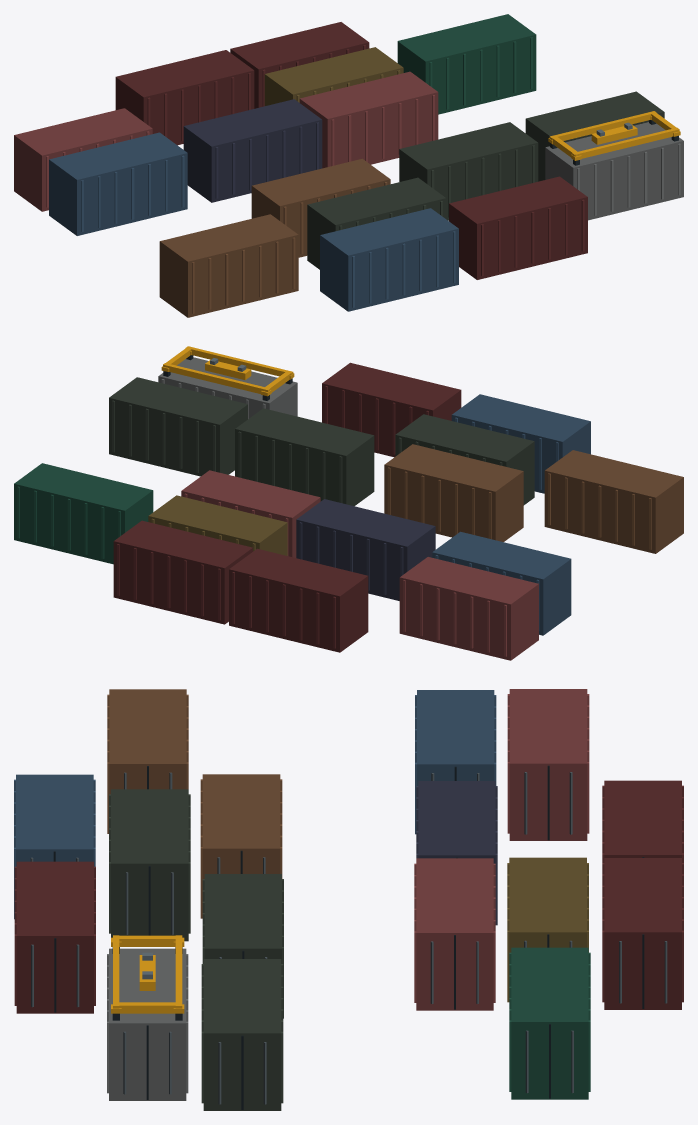
File: containers-e-w-05.glb
3 renders of one model, top to bottom at view 1: azimuth 30°, elevation 25°; view 2: azimuth 150°, elevation 25°; view 3: azimuth 270°, elevation 25°, orthographic. The views are drawn at different scales.
Parts seen in each view (by area): view 1: containers-e-w-05; view 2: containers-e-w-05; view 3: containers-e-w-05.
Boxes of the visible parts, x1=… form: containers-e-w-05: x1=14, y1=14, x2=683, y2=317; containers-e-w-05: x1=14, y1=346, x2=683, y2=660; containers-e-w-05: x1=14, y1=689, x2=683, y2=1110.
Bounding box in the file's own units: 61.17 × 8.25 × 50.14.
